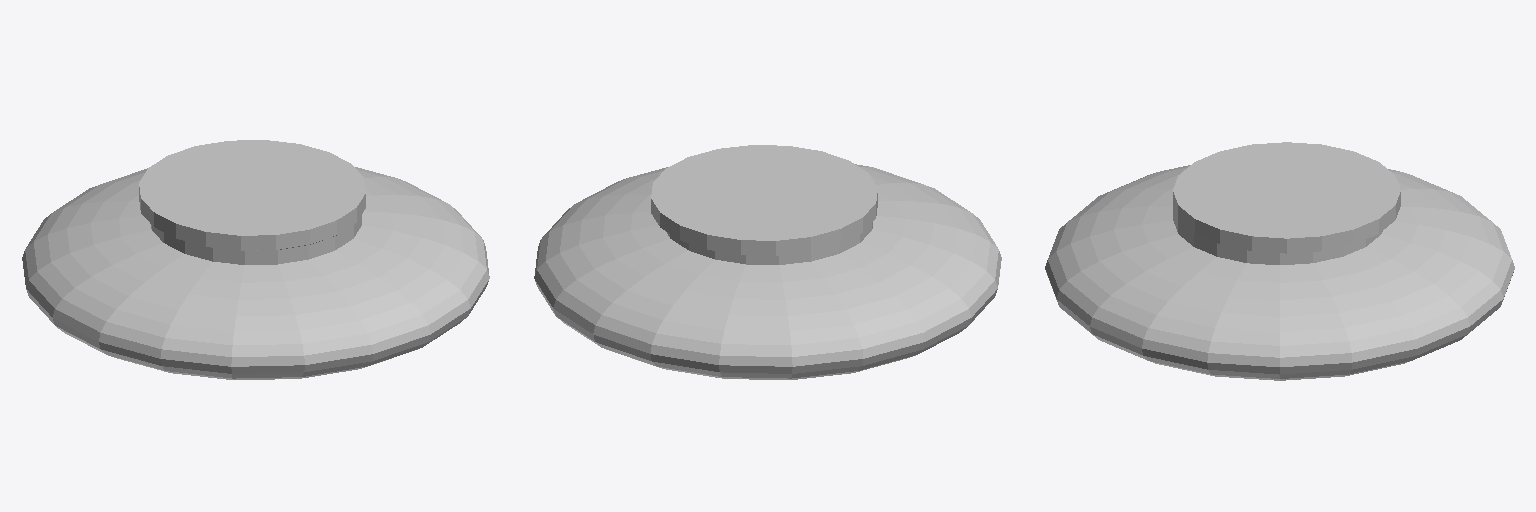
The model's file is UFO.obj.
3 renders of one model, left to right at view 1: azimuth 30°, elevation 25°; view 2: azimuth 150°, elevation 25°; view 3: azimuth 270°, elevation 25°, orthographic.
Parts seen in each view (by area): view 1: pSphere2; view 2: pSphere2; view 3: pSphere2.
Boxes of the visible parts, x1=… form: pSphere2: x1=22, y1=140, x2=489, y2=379; pSphere2: x1=534, y1=145, x2=1001, y2=379; pSphere2: x1=1045, y1=142, x2=1514, y2=380.
Bounding box in the file's own units: 2 × 0.6154 × 2.